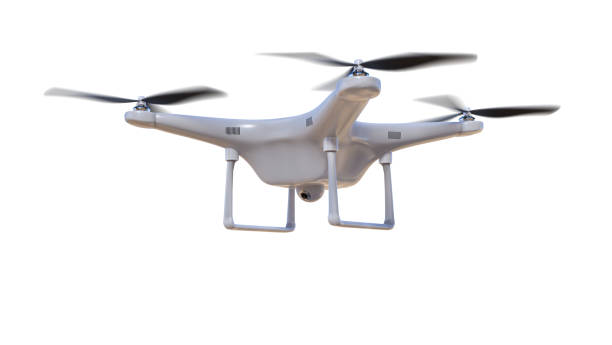Drone: (33, 46, 561, 239)
